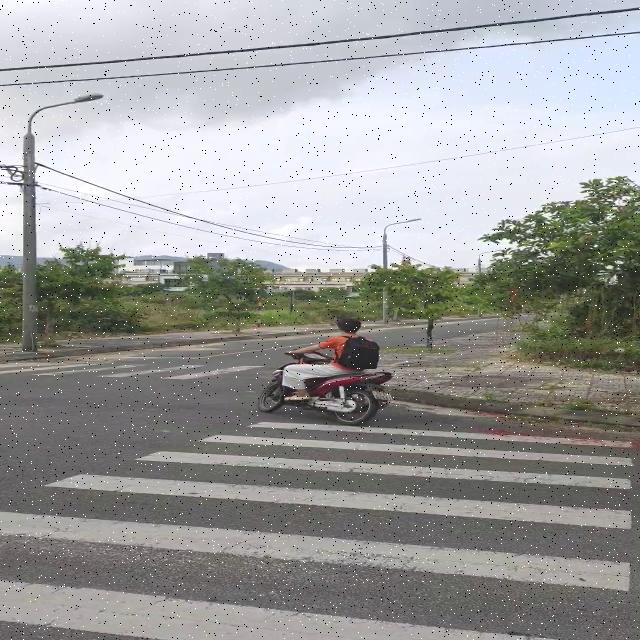no_helmet: (334, 314, 365, 339)
